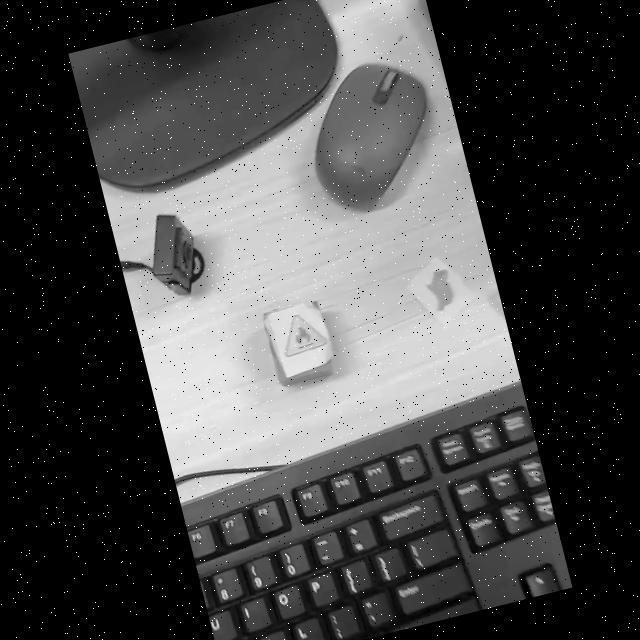Fire: (285, 315, 324, 355)
